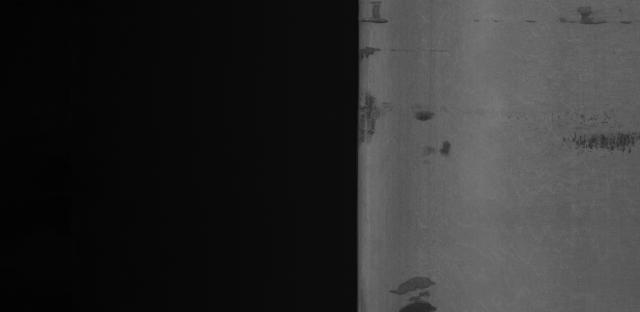oil_spot: (550, 119, 640, 156), (408, 100, 460, 161), (552, 2, 636, 32), (384, 272, 443, 312), (359, 92, 392, 154), (362, 1, 393, 31), (358, 43, 387, 70)
